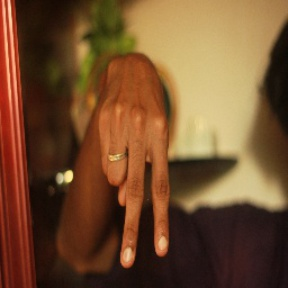Y: (92, 81, 174, 269)
